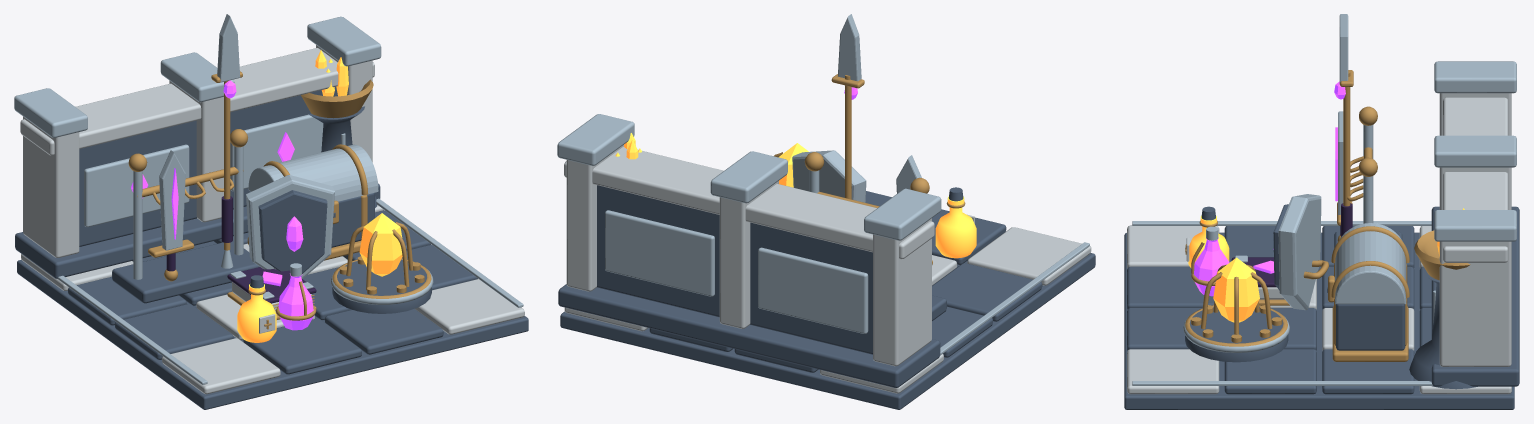
The model's file is moonsteel-convergence-relic-armory-37559f9f__18224.glb.
3 renders of one model, left to right at view 1: azimuth 30°, elevation 25°; view 2: azimuth 150°, elevation 25°; view 3: azimuth 270°, elevation 25°, orthographic. The views are drawn at different scales.
Parts seen in each view (by area): view 1: 000-runestone-lane/0, 001-courtyard-wall/1, 001-courtyard-wall/2, 001-courtyard-wall/0, 000-runestone-lane/1, 002-armory-weapon-rack/0, 005-sentinel-kite-shield/1, 006-relic-coffer/lid-silver, 005-sentinel-kite-shield/0, 007-capture-relic/0, 000-runestone-lane/2, 007-capture-relic/2 (+19 smaller); view 2: 001-courtyard-wall/1, 001-courtyard-wall/0, 001-courtyard-wall/2, 000-runestone-lane/0, 000-runestone-lane/1, 005-sentinel-kite-shield/0, 008-restoration-flask/0, 000-runestone-lane/2, 004-moonsteel-glaive/2, 004-moonsteel-glaive/0, 002-armory-weapon-rack/2, 003-runeblade/2; view 3: 000-runestone-lane/0, 001-courtyard-wall/1, 001-courtyard-wall/2, 000-runestone-lane/1, 006-relic-coffer/lid-silver, 005-sentinel-kite-shield/0, 006-relic-coffer/1, 001-courtyard-wall/0, 007-capture-relic/0, 000-runestone-lane/2, 007-capture-relic/2, 007-capture-relic/3 (+14 smaller).
Part boxes in pixels (x1,y1,x2,y2): 000-runestone-lane/0: [17, 210, 528, 409]; 001-courtyard-wall/1: [20, 45, 374, 257]; 001-courtyard-wall/2: [14, 16, 381, 227]; 001-courtyard-wall/0: [15, 86, 380, 278]; 000-runestone-lane/1: [21, 205, 524, 394]; 002-armory-weapon-rack/0: [112, 241, 259, 303]; 005-sentinel-kite-shield/1: [258, 190, 327, 273]; 006-relic-coffer/lid-silver: [248, 144, 378, 201]; 005-sentinel-kite-shield/0: [246, 175, 334, 278]; 007-capture-relic/0: [332, 259, 431, 313]; 000-runestone-lane/2: [57, 198, 523, 384]; 007-capture-relic/2: [332, 222, 431, 298]; 001-courtyard-wall/1: [564, 145, 934, 366]; 001-courtyard-wall/0: [558, 185, 940, 387]; 001-courtyard-wall/2: [557, 114, 941, 333]; 000-runestone-lane/0: [560, 191, 1095, 409]; 000-runestone-lane/1: [564, 227, 1091, 393]; 005-sentinel-kite-shield/0: [792, 150, 866, 202]; 008-restoration-flask/0: [935, 196, 976, 258]; 000-runestone-lane/2: [940, 242, 1089, 355]; 004-moonsteel-glaive/2: [838, 14, 861, 81]; 004-moonsteel-glaive/0: [831, 74, 864, 199]; 002-armory-weapon-rack/2: [804, 152, 929, 207]; 003-runeblade/2: [896, 155, 921, 193]; 000-runestone-lane/0: [1124, 226, 1514, 409]; 001-courtyard-wall/1: [1439, 93, 1511, 366]; 001-courtyard-wall/2: [1434, 61, 1516, 241]; 000-runestone-lane/1: [1127, 225, 1511, 394]; 006-relic-coffer/lid-silver: [1335, 223, 1406, 304]; 005-sentinel-kite-shield/0: [1278, 194, 1321, 310]; 006-relic-coffer/1: [1327, 287, 1405, 350]; 001-courtyard-wall/0: [1431, 206, 1519, 386]; 007-capture-relic/0: [1185, 306, 1288, 362]; 000-runestone-lane/2: [1132, 221, 1432, 385]; 007-capture-relic/2: [1185, 264, 1287, 346]; 007-capture-relic/3: [1213, 257, 1259, 322].
Size of the model in its own units: 4.06 by 3.37 by 4.05.
